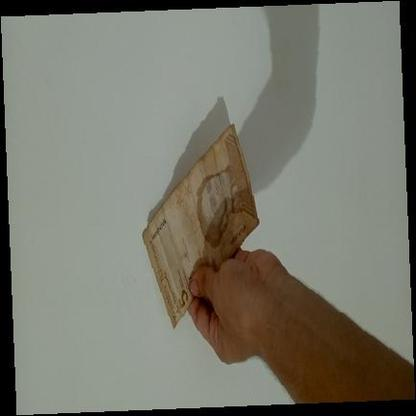five-front-vef: (142, 123, 260, 330)
